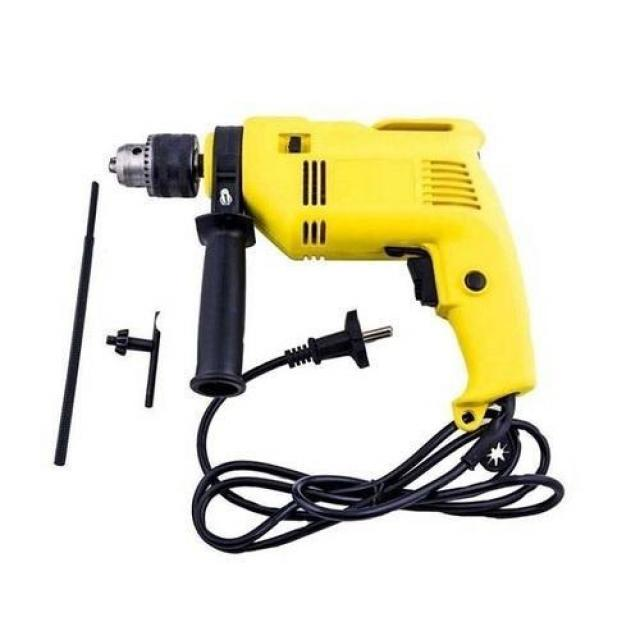drill: (107, 116, 536, 470)
